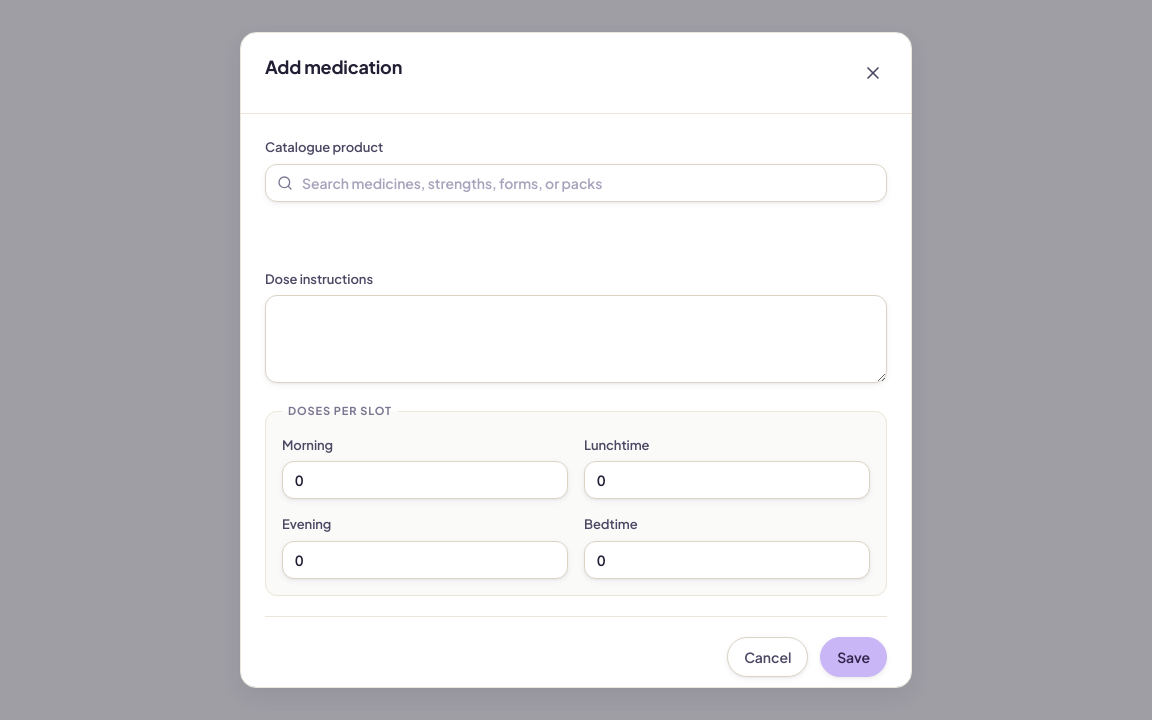
Test: PatientMedicationFormModal › renders backend field errors
Type "ibuprofen" into the dropdown labelled "Catalogue product" at point(576, 182), box 265,164 -> 887,202
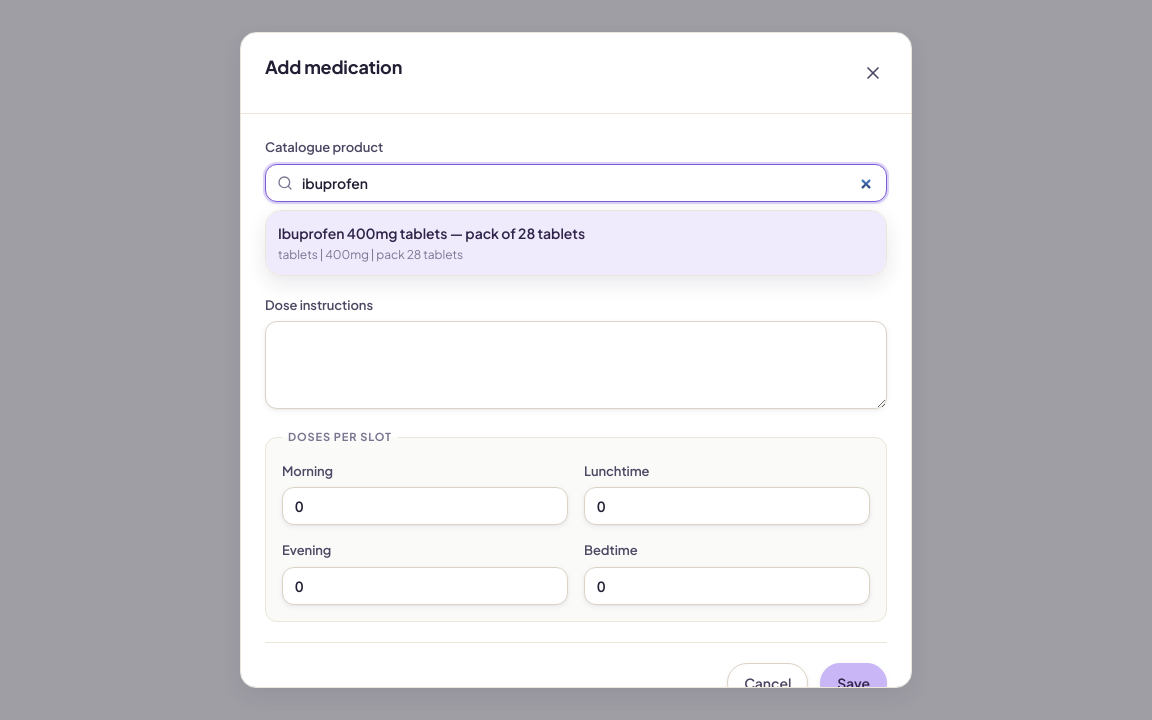
Click the option "Ibuprofen 400mg tablets — pack of 28 tablets" at point(576, 242), box 266,210 -> 886,274
(page scrolled)
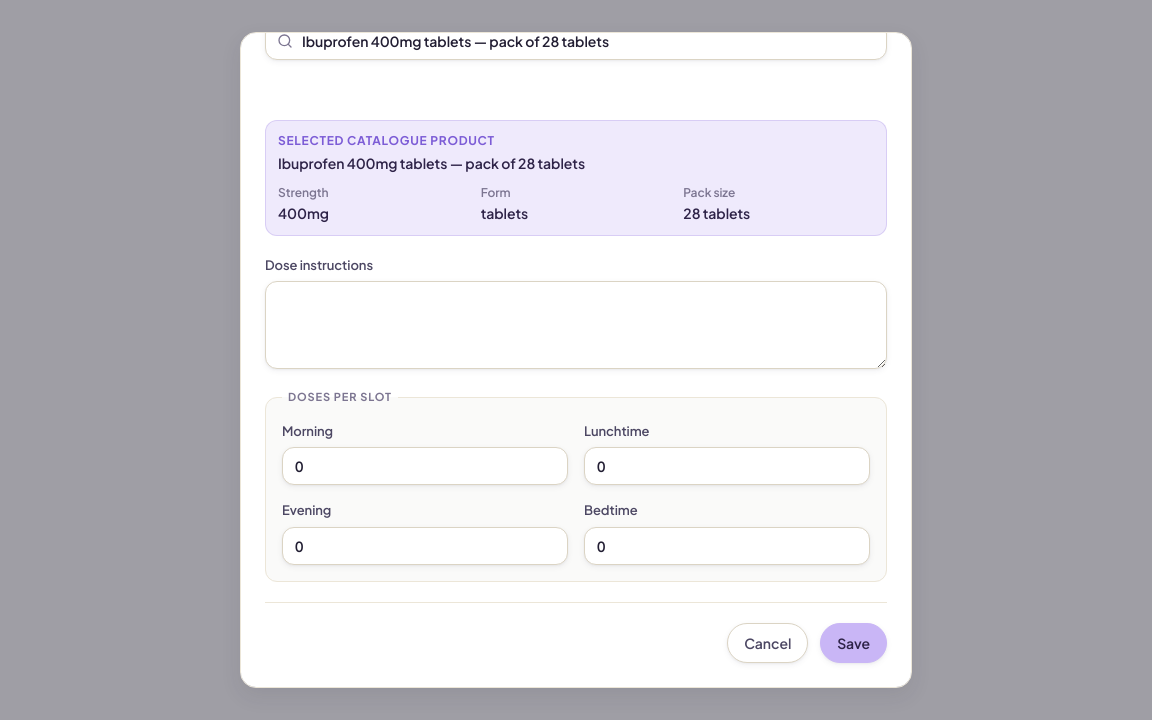
Click the button "Save" at point(854, 642), box 820,622 -> 887,662
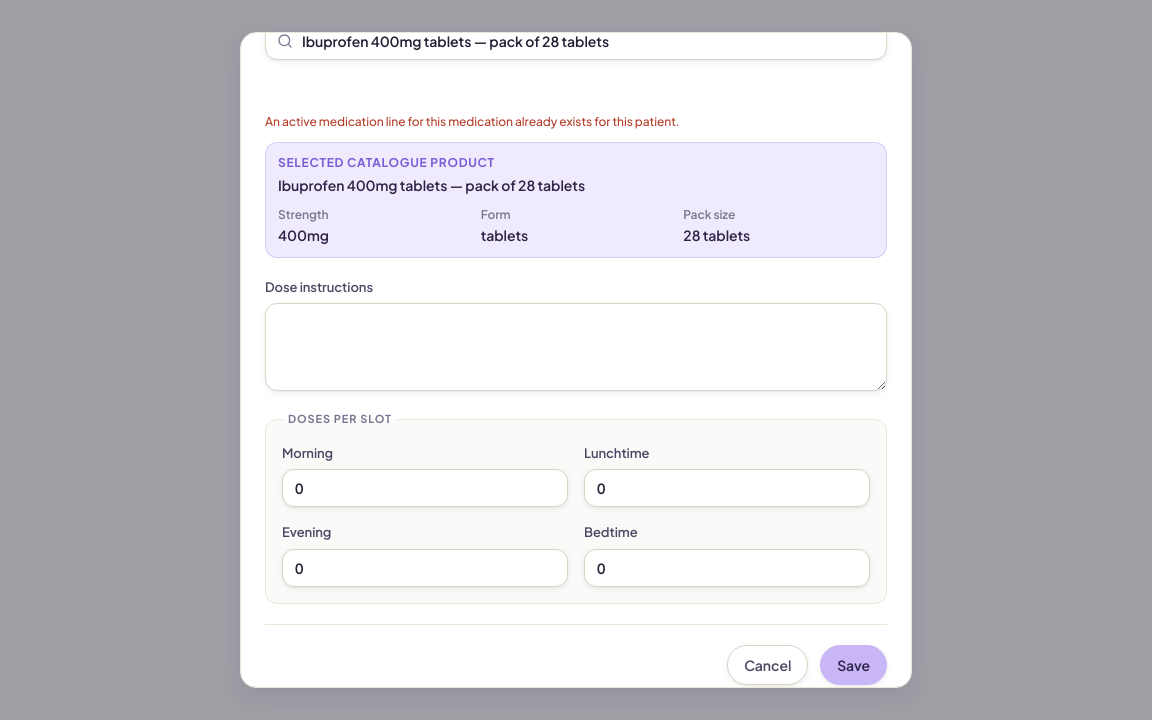
Result: the list item "An active medication line for this medication already exists for this patient." is shown at 265,114 -> 680,128
